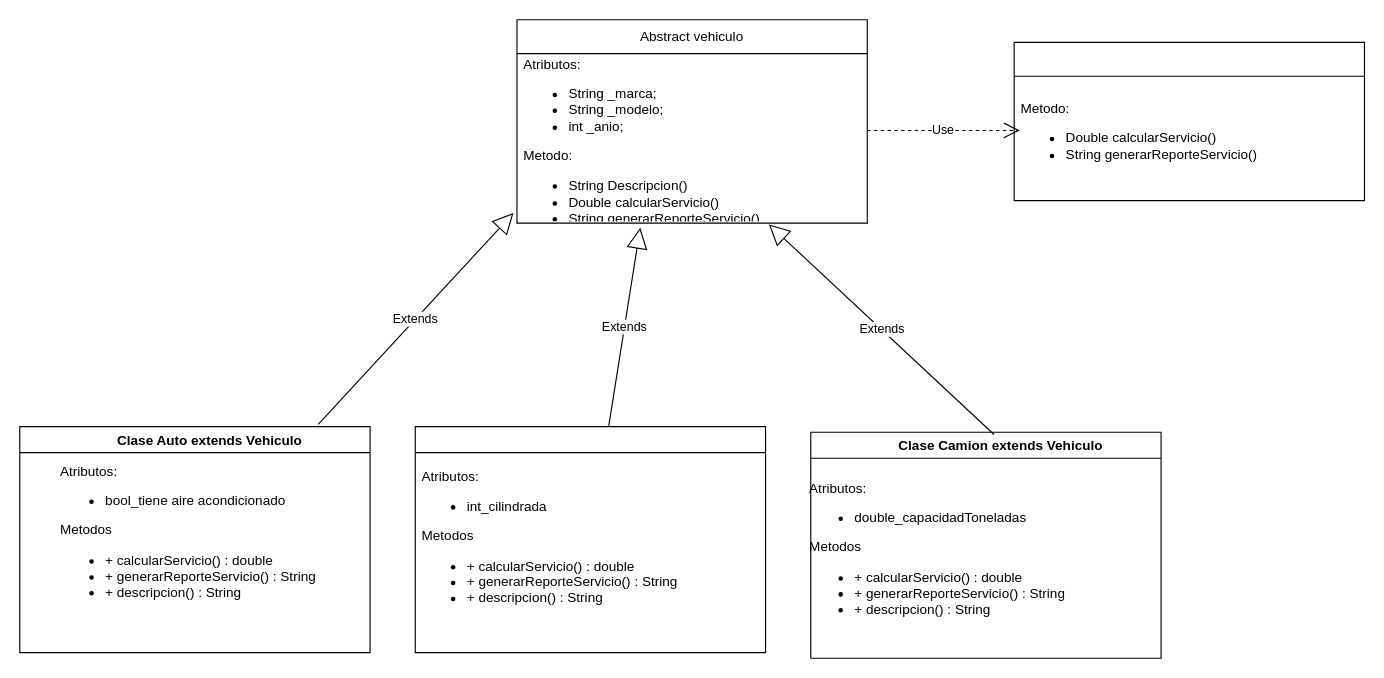
The diagram is 1384 pixels wide and 678 high, and some of its shapes have lost their labels. The shapes that lost their labels are listed below. From the top down, each one's box as (x1, y1, x2, y2) in pixels, then its label:
(1013, 41, 1364, 201): Interfaz ServicioTaller
(414, 425, 766, 653): Clase Moto extends Vehiculo
